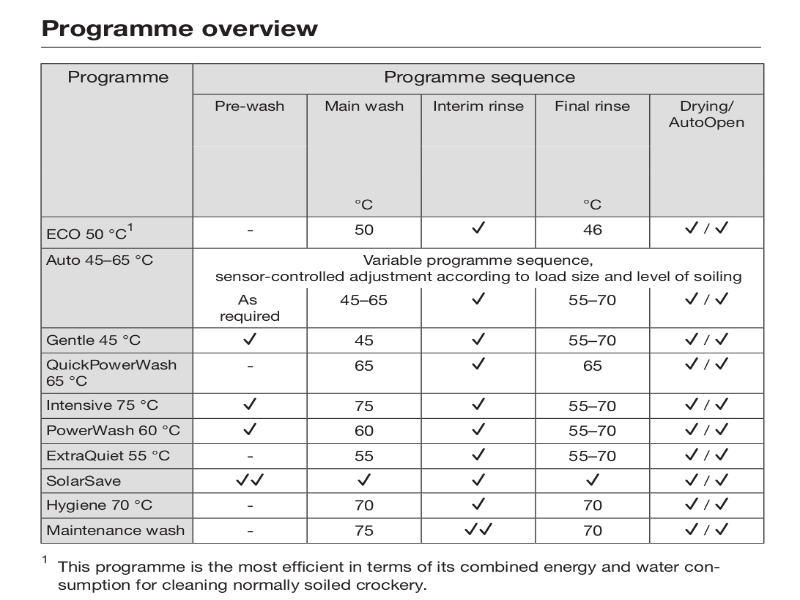border: (31, 55, 774, 550)
cell: (208, 250, 751, 286), (44, 357, 179, 387), (380, 68, 578, 86), (667, 99, 747, 131), (43, 421, 182, 439), (43, 445, 182, 463), (212, 292, 292, 323), (44, 395, 167, 414), (43, 522, 186, 538), (64, 68, 177, 88), (43, 496, 157, 515), (44, 252, 162, 269), (46, 222, 138, 243), (42, 470, 134, 490), (45, 331, 148, 348), (320, 97, 408, 114), (429, 99, 526, 114), (210, 97, 290, 115), (551, 99, 633, 115), (559, 291, 620, 310), (558, 328, 619, 347), (560, 355, 621, 374), (561, 395, 622, 414), (561, 422, 622, 441), (560, 445, 621, 464), (561, 469, 622, 488), (561, 495, 622, 514), (561, 521, 622, 540), (674, 219, 734, 237), (334, 292, 393, 309), (680, 290, 731, 308), (680, 329, 731, 347), (680, 354, 731, 372), (680, 395, 731, 413), (681, 420, 732, 438), (681, 445, 732, 463), (681, 469, 732, 487), (680, 495, 731, 513), (681, 520, 732, 538), (349, 355, 380, 376), (350, 219, 380, 240), (349, 521, 384, 539), (348, 446, 384, 463), (466, 288, 492, 311), (348, 421, 383, 438), (349, 397, 382, 415), (348, 498, 383, 514), (348, 472, 385, 487), (463, 396, 495, 413), (463, 420, 495, 437), (463, 446, 495, 463), (463, 469, 495, 486), (462, 495, 494, 512), (462, 520, 494, 537), (460, 332, 496, 347), (461, 358, 497, 373), (234, 471, 269, 486), (234, 499, 269, 514), (236, 524, 271, 539), (466, 218, 494, 236), (235, 331, 266, 347), (237, 361, 267, 377), (349, 332, 378, 348), (234, 396, 264, 411), (234, 419, 264, 434), (235, 447, 265, 462), (580, 222, 608, 238), (351, 197, 380, 212), (584, 196, 608, 210)
